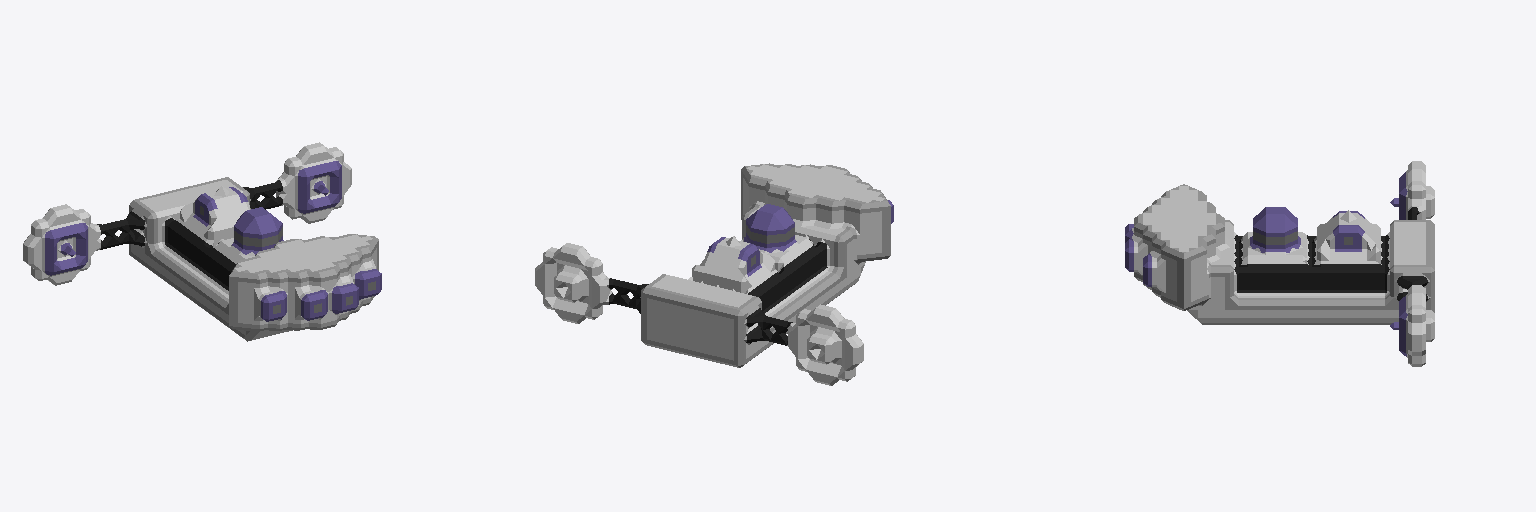
3 renders of one model, left to right at view 1: azimuth 30°, elevation 25°; view 2: azimuth 150°, elevation 25°; view 3: azimuth 270°, elevation 25°, orthographic.
Size of the model in its own units: 41 by 11 by 34.
Materials: 1 (1 with a texture image).